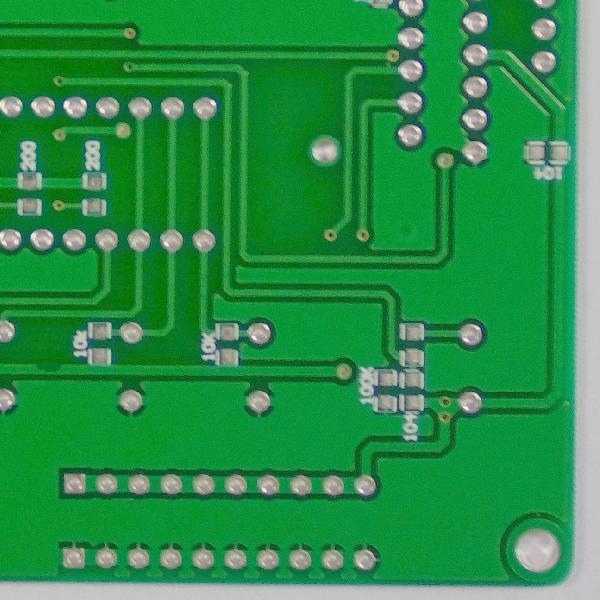mouse_bite: (32, 356, 67, 377)
